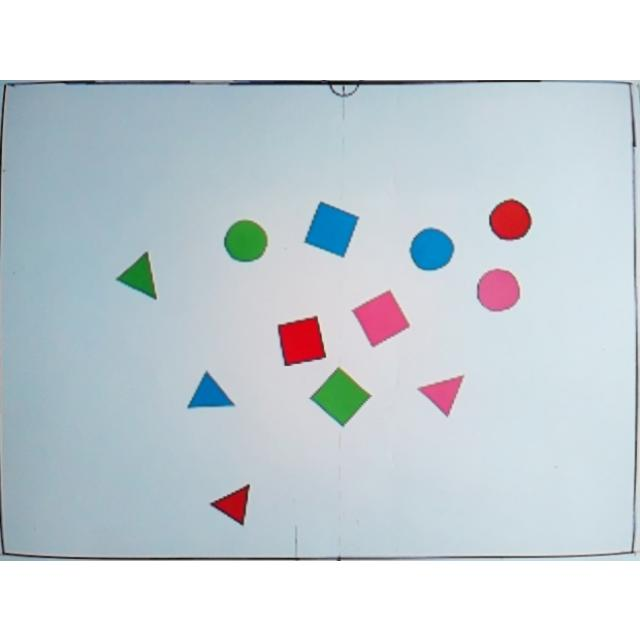blueCircle: (408, 224, 457, 272)
blueSquare: (304, 200, 361, 256)
blueTriangle: (187, 368, 236, 416)
greenCircle: (222, 218, 268, 262)
greenSquare: (309, 364, 373, 428)
greenTriangle: (114, 249, 162, 301)
pinkCircle: (474, 266, 522, 312)
pinkSquare: (350, 288, 410, 346)
pinkTriangle: (416, 371, 468, 417)
redCircle: (486, 195, 534, 242)
redSquare: (276, 314, 328, 366)
redTriangle: (210, 482, 254, 526)
